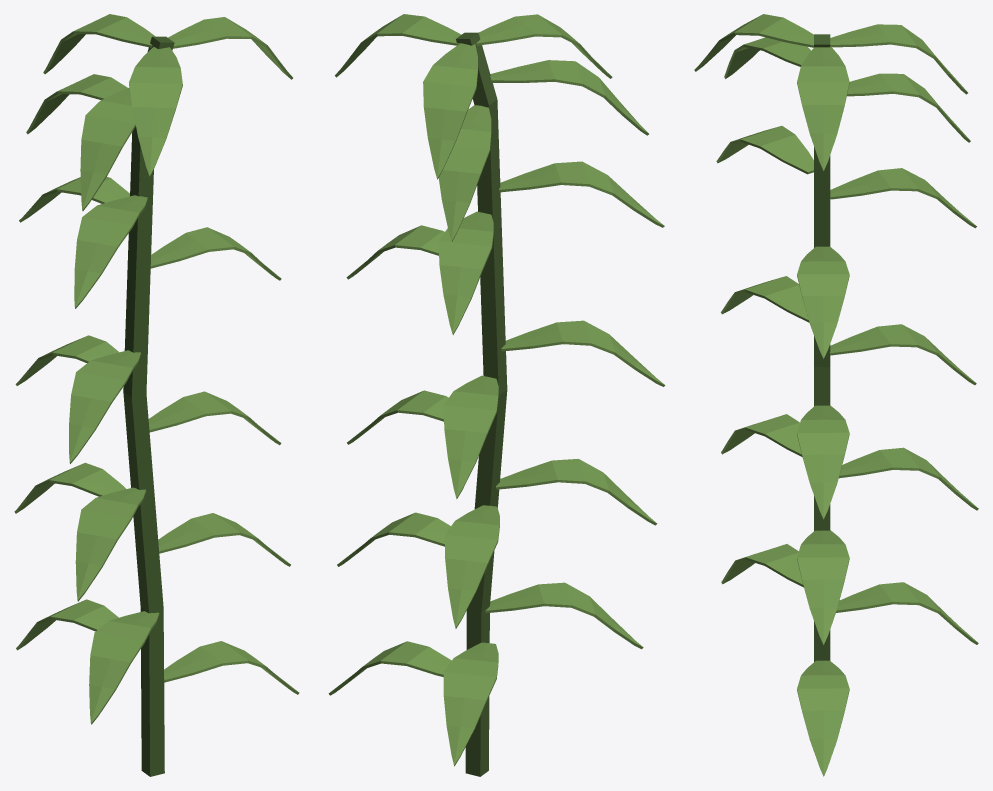
Rendered from SM_tall_plant_01.glb.
3 renders of one model, left to right at view 1: azimuth 30°, elevation 25°; view 2: azimuth 150°, elevation 25°; view 3: azimuth 270°, elevation 25°, orthographic. The views are drawn at different scales.
Parts seen in each view (by area): view 1: SM_tall_plant_01; view 2: SM_tall_plant_01; view 3: SM_tall_plant_01.
Boxes of the visible parts, left/top/right/bottom form: SM_tall_plant_01: left=14, top=14, right=299, bottom=776; SM_tall_plant_01: left=328, top=14, right=665, bottom=776; SM_tall_plant_01: left=694, top=14, right=978, bottom=776.
Bounding box in the file's own units: 0.3578 × 0.8853 × 0.3198.
1 material, 1 textured.
